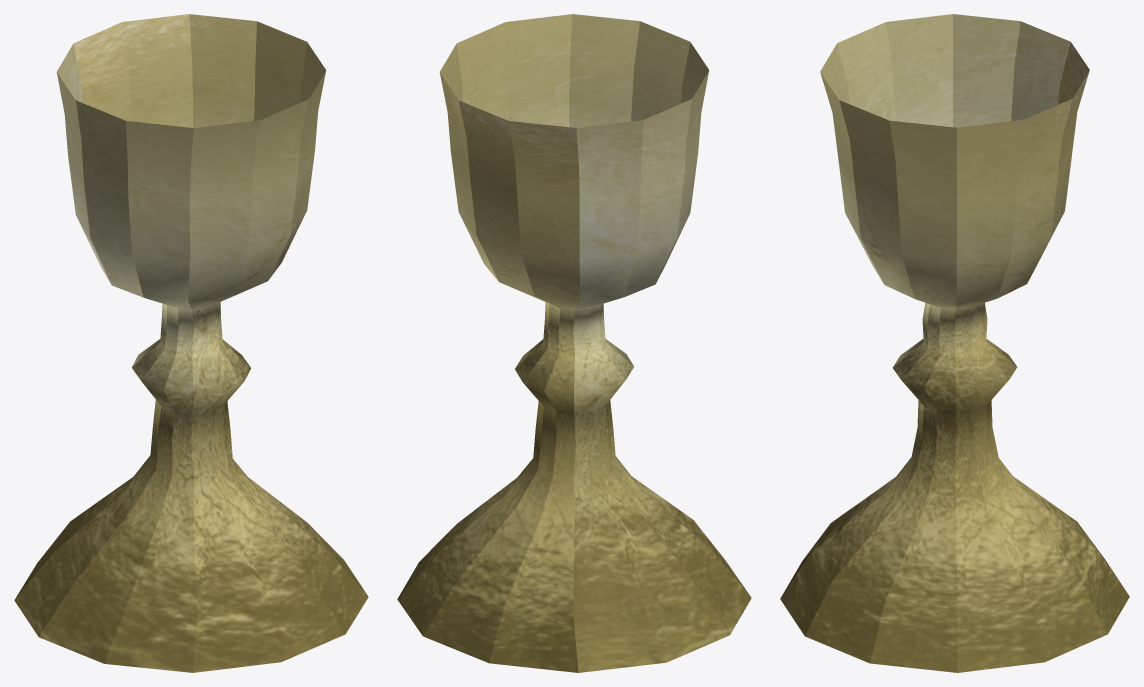
File: vessel.fbx
3 views of the same model, side by side, from view 1: azimuth 30°, elevation 25°; view 2: azimuth 150°, elevation 25°; view 3: azimuth 270°, elevation 25° (orthographic).
Visible parts, largest first — view 1: pCylinder1; view 2: pCylinder1; view 3: pCylinder1.
Part boxes in pixels (x1,y1,x2,y2): pCylinder1: (14,14,368,672); pCylinder1: (397,14,751,672); pCylinder1: (780,14,1129,672).
Size of the model in its own units: 6.32 by 10.34 by 6.22.
